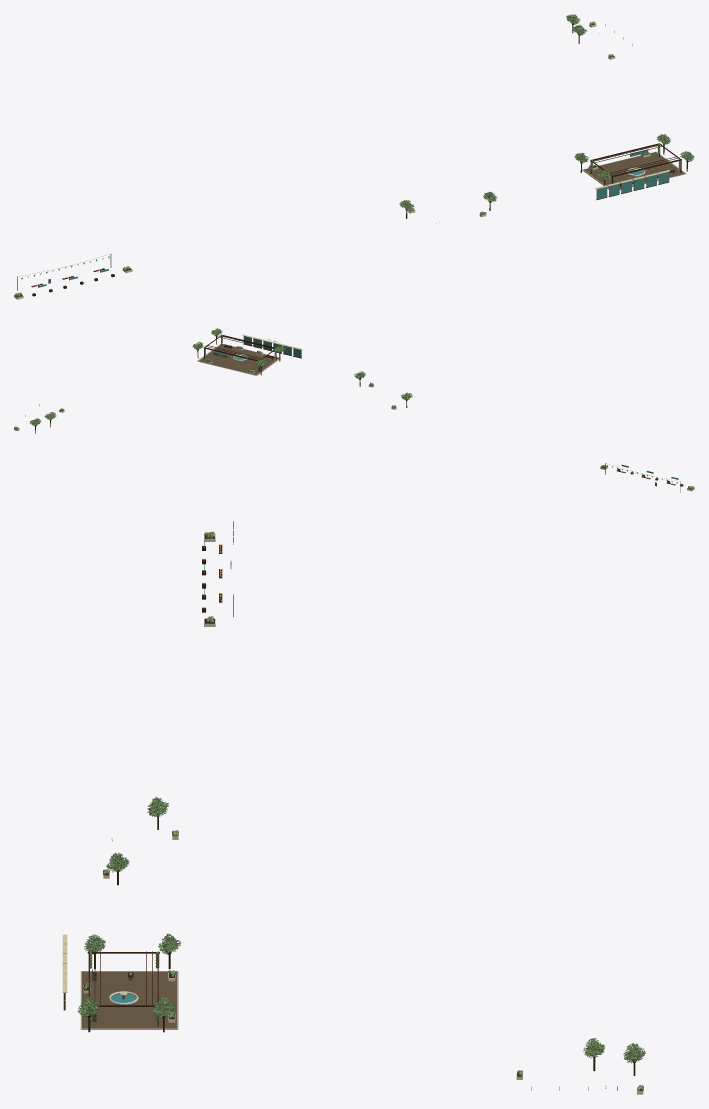
File: district_detail_v6.glb
3 renders of one model, top to bottom at view 1: azimuth 30°, elevation 25°; view 2: azimuth 150°, elevation 25°; view 3: azimuth 270°, elevation 25°, orthographic. The views are drawn at different scales.
Visible parts, largest first — view 1: v6_stone, v6_wood, v6_leaf, v6_teal, v6_leaflight; view 2: v6_stone, v6_wood, v6_leaf, v6_teal, v6_leaflight, v6_rim; view 3: v6_stone, v6_leaf, v6_leaflight, v6_wood, v6_rim.
Boxes of the visible parts, x1=… form: v6_stone: x1=582, y1=152, x2=685, y2=190; v6_wood: x1=14, y1=22, x2=688, y2=297; v6_leaf: x1=15, y1=14, x2=694, y2=296; v6_teal: x1=21, y1=149, x2=669, y2=287; v6_leaflight: x1=15, y1=14, x2=694, y2=296; v6_stone: x1=198, y1=344, x2=280, y2=375; v6_wood: x1=17, y1=334, x2=694, y2=489; v6_leaf: x1=14, y1=328, x2=693, y2=488; v6_teal: x1=213, y1=336, x2=678, y2=483; v6_leaflight: x1=15, y1=329, x2=693, y2=488; v6_rim: x1=14, y1=343, x2=694, y2=491; v6_stone: x1=81, y1=971, x2=178, y2=1029; v6_leaf: x1=77, y1=531, x2=645, y2=1091; v6_leaflight: x1=79, y1=532, x2=645, y2=1090; v6_wood: x1=63, y1=534, x2=640, y2=1090; v6_rim: x1=80, y1=534, x2=643, y2=1094.
Bounding box in the file's own units: 231 × 6.18 × 102.
14 materials, 2 textured.
